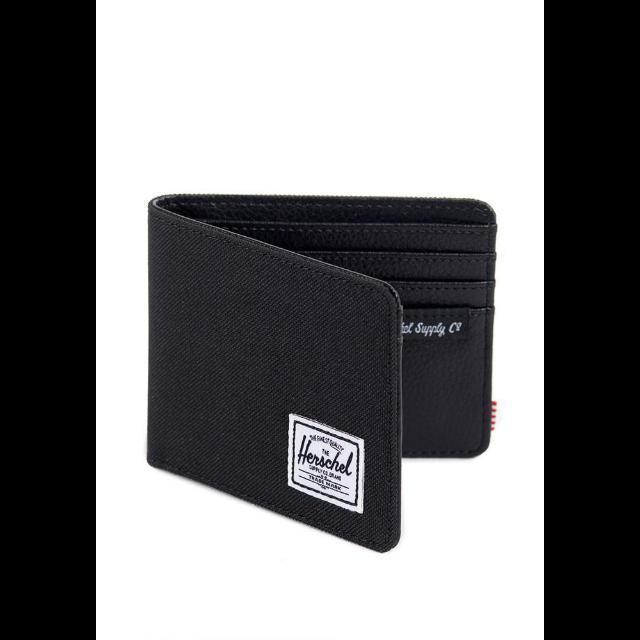wallet: (140, 188, 494, 560)
